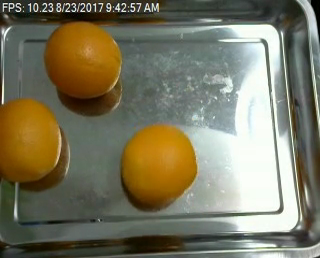Orange: (120, 123, 197, 206), (43, 20, 121, 98), (0, 98, 61, 183)
